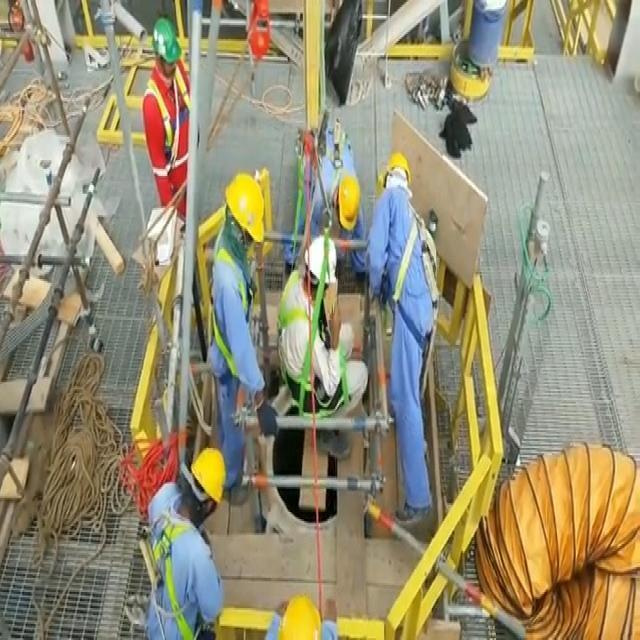Person: (140, 445, 227, 637), (280, 256, 324, 395)
